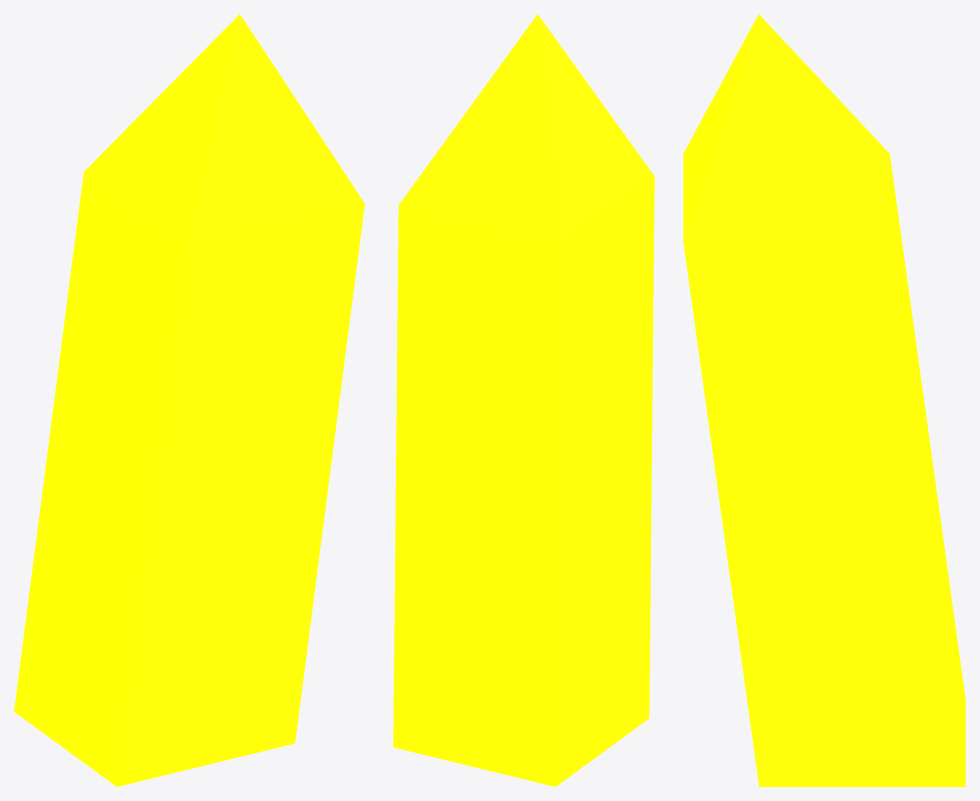
File: Crystal.fbx
3 views of the same model, side by side, from view 1: azimuth 30°, elevation 25°; view 2: azimuth 150°, elevation 25°; view 3: azimuth 270°, elevation 25° (orthographic). The views are drawn at different scales.
Parts seen in each view (by area): view 1: Cube; view 2: Cube; view 3: Cube.
Part boxes in pixels (left/top/right/bottom): Cube: left=14, top=14, right=364, bottom=786; Cube: left=393, top=14, right=654, bottom=786; Cube: left=683, top=14, right=965, bottom=786.
Bounding box in the file's own units: 236 × 797 × 273.
